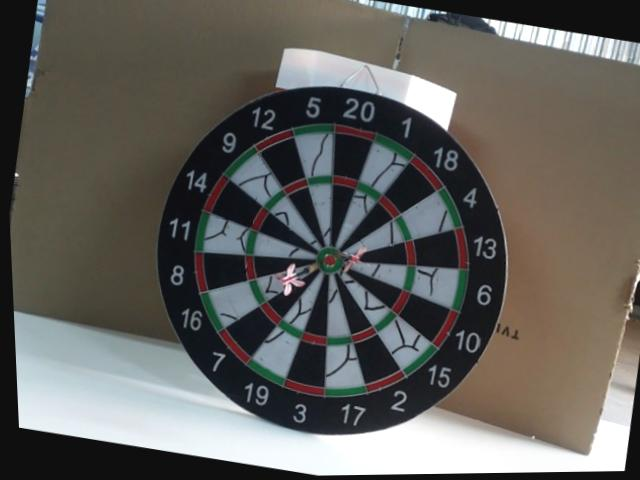bullseye: (321, 251, 341, 274)
